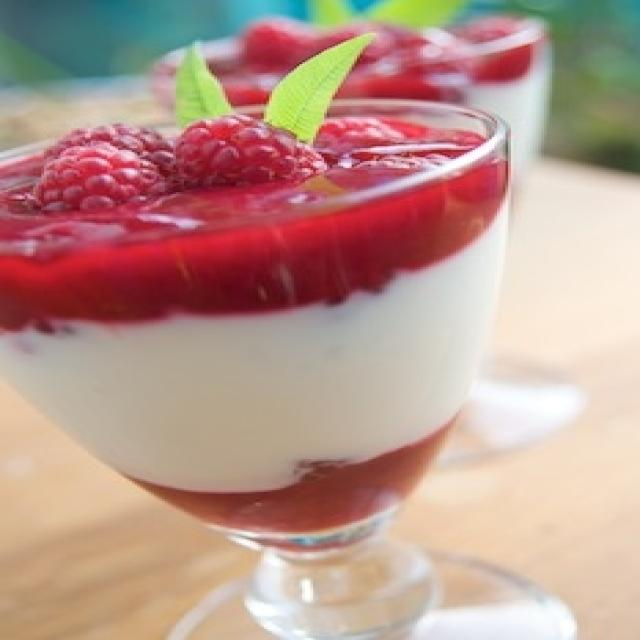蛋糕甜品: (2, 4, 590, 624)
